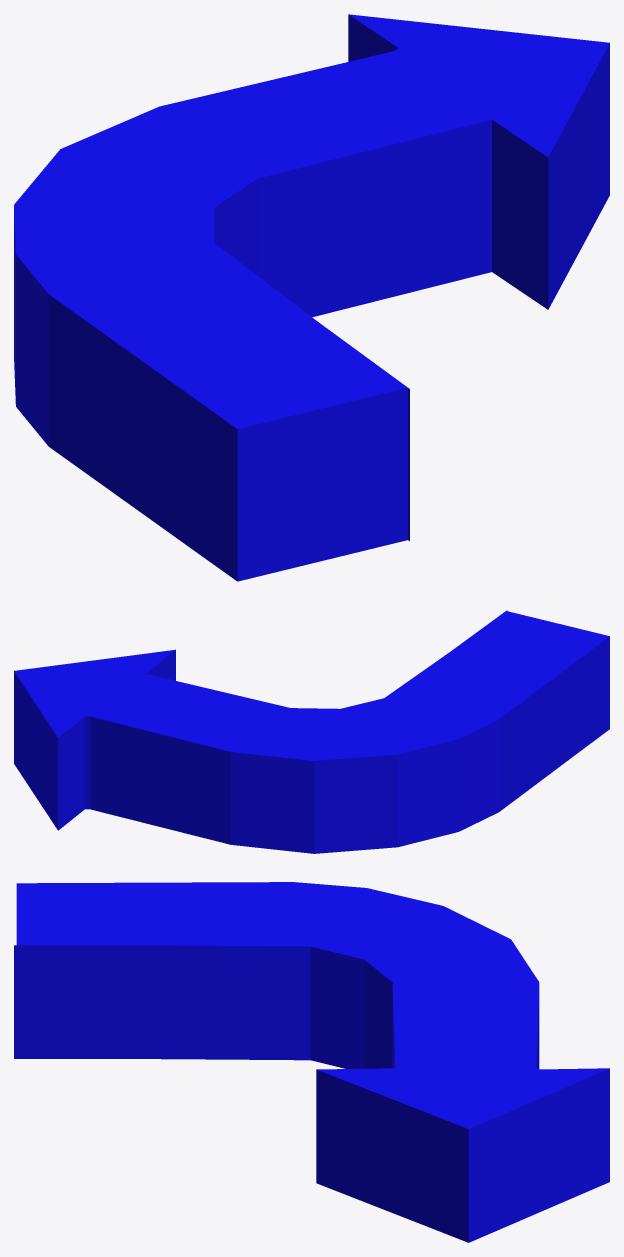
Rendered from right-arrow.gltf.
3 renders of one model, top to bottom at view 1: azimuth 30°, elevation 25°; view 2: azimuth 150°, elevation 25°; view 3: azimuth 270°, elevation 25°, orthographic. The views are drawn at different scales.
Visible parts, largest first — view 1: Cube; view 2: Cube; view 3: Cube.
Part boxes in pixels (<box>): Cube: <box>14,14,609,581</box>; Cube: <box>14,610,609,853</box>; Cube: <box>14,882,609,1242</box>.
Bounding box in the file's own units: 3.47 × 0.7441 × 3.53.
